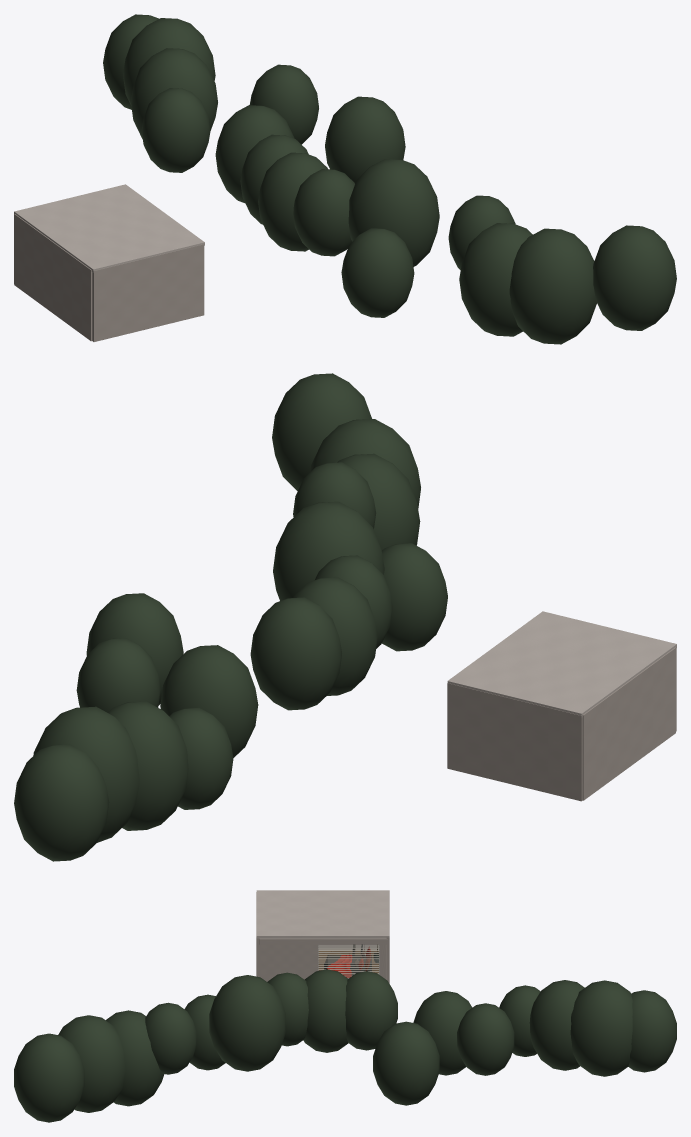
File: scene-4-3dcodeverse.glb
3 renders of one model, top to bottom at view 1: azimuth 30°, elevation 25°; view 2: azimuth 150°, elevation 25°; view 3: azimuth 270°, elevation 25°, orthographic. The views are drawn at different scales.
Parts seen in each view (by area): view 1: CeilingPlaster, SkyDistantTree14, RoomShellFront, SkyDistantTree15, SkyDistantTree10, RoomShellLeft, SkyDistantTree13, SkyDistantTree11, SkyDistantTree6, SkyDistantTree3, SkyDistantTree9, SkyDistantTree2 (+7 smaller); view 2: CeilingPlaster, RoomShellBack, SkyDistantTree0, RoomShellLeft, SkyDistantTree7, SkyDistantTree10, SkyDistantTree5, SkyDistantTree15, SkyDistantTree2, SkyDistantTree1, SkyDistantTree11, SkyDistantTree4 (+7 smaller); view 3: CeilingPlaster, SkyDistantTree10, SkyDistantTree1, SkyDistantTree15, SkyDistantTree6, SkyDistantTree14, SkyDistantTree2, SkyDistantTree7, SkyDistantTree4, SkyDistantTree0, SkyDistantTree13, SkyDistantTree8 (+7 smaller).
Boxes of the visible parts, <box> form: CeilingPlaster: <box>14,184,204,272</box>; SkyDistantTree14: <box>509,228,596,344</box>; RoomShellFront: <box>92,244,204,341</box>; SkyDistantTree15: <box>593,225,676,330</box>; SkyDistantTree10: <box>348,159,439,266</box>; RoomShellLeft: <box>14,214,92,341</box>; SkyDistantTree13: <box>459,223,532,336</box>; SkyDistantTree11: <box>341,228,414,317</box>; SkyDistantTree6: <box>325,96,405,183</box>; SkyDistantTree3: <box>141,88,210,172</box>; SkyDistantTree9: <box>293,169,354,256</box>; SkyDistantTree2: <box>130,48,217,139</box>; CeilingPlaster: <box>447,611,676,717</box>; RoomShellBack: <box>447,683,582,801</box>; SkyDistantTree0: <box>14,744,109,861</box>; RoomShellLeft: <box>582,647,675,800</box>; SkyDistantTree7: <box>250,597,341,710</box>; SkyDistantTree10: <box>273,501,384,600</box>; SkyDistantTree5: <box>160,645,258,757</box>; SkyDistantTree15: <box>272,373,371,491</box>; SkyDistantTree2: <box>108,701,188,830</box>; SkyDistantTree1: <box>33,706,139,842</box>; SkyDistantTree11: <box>381,543,447,651</box>; SkyDistantTree4: <box>76,638,160,712</box>; CeilingPlaster: <box>256,890,389,938</box>; SkyDistantTree10: <box>209,975,285,1071</box>; SkyDistantTree1: <box>570,980,632,1076</box>; SkyDistantTree15: <box>14,1033,84,1122</box>; SkyDistantTree6: <box>373,1021,439,1105</box>; SkyDistantTree14: <box>58,1015,125,1112</box>; SkyDistantTree2: <box>529,980,584,1070</box>; SkyDistantTree7: <box>345,971,397,1050</box>; SkyDistantTree4: <box>457,1003,514,1075</box>; SkyDistantTree0: <box>628,990,676,1072</box>; SkyDistantTree13: <box>106,1010,164,1106</box>; SkyDistantTree8: <box>303,969,348,1052</box>.
Size of what is drawn, in the model's own units: 22.19 by 6.01 by 33.42.
Materials: 1422 (188 with a texture image).
